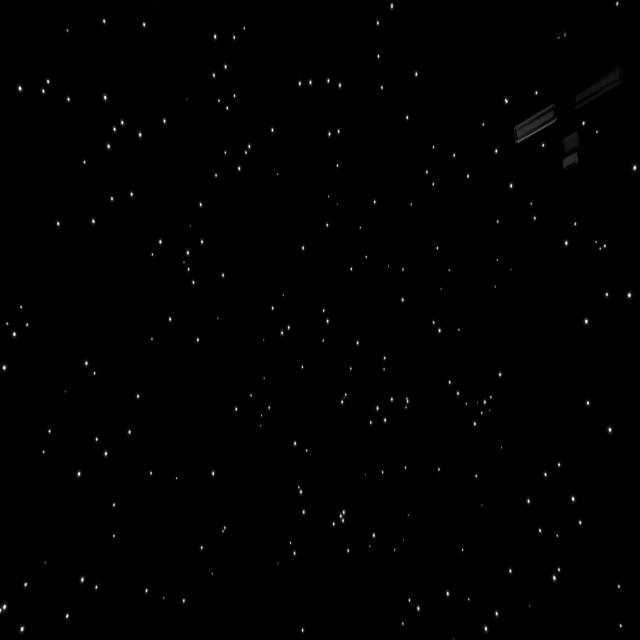medium_debris: (503, 63, 621, 172)
